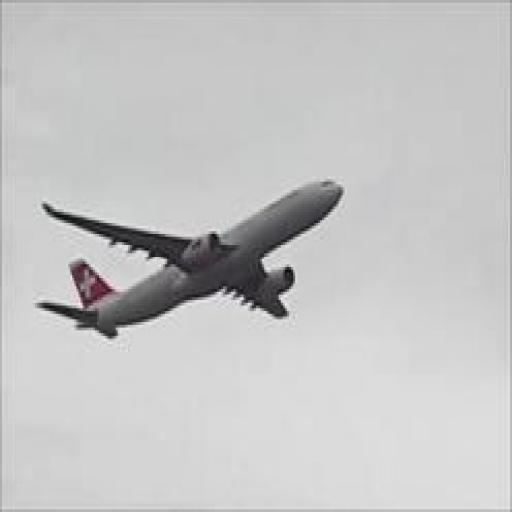aircraft: (37, 179, 344, 339)
